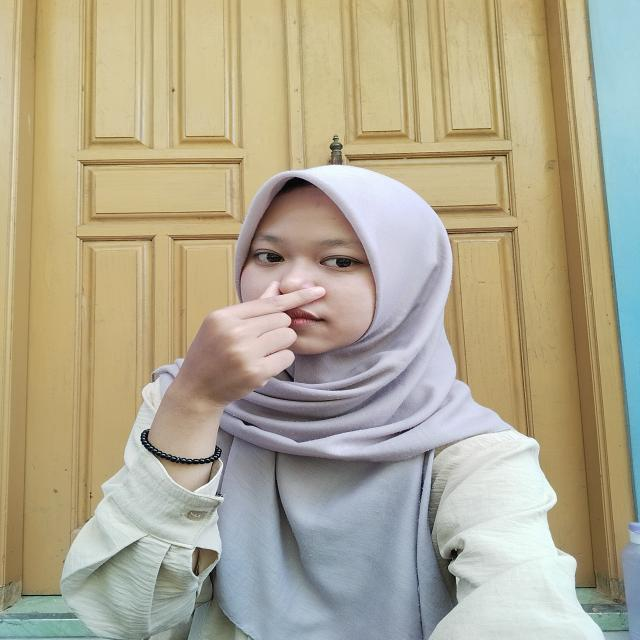bau: (144, 274, 349, 414)
